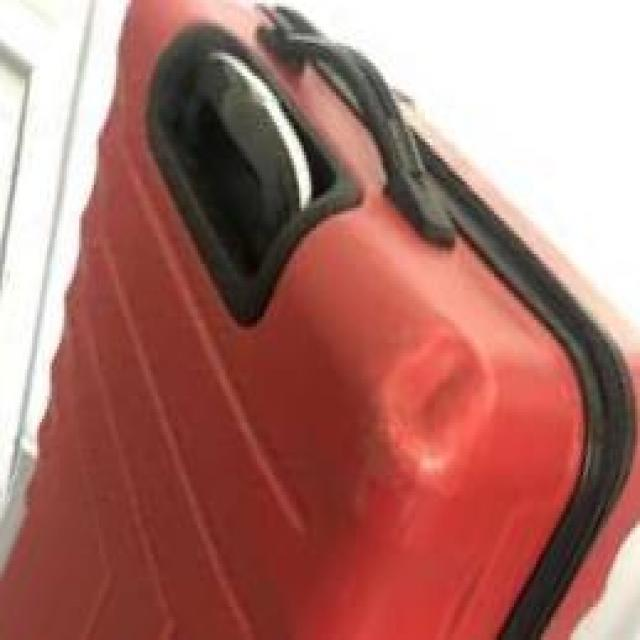Damage-bag: (376, 312, 498, 516)
